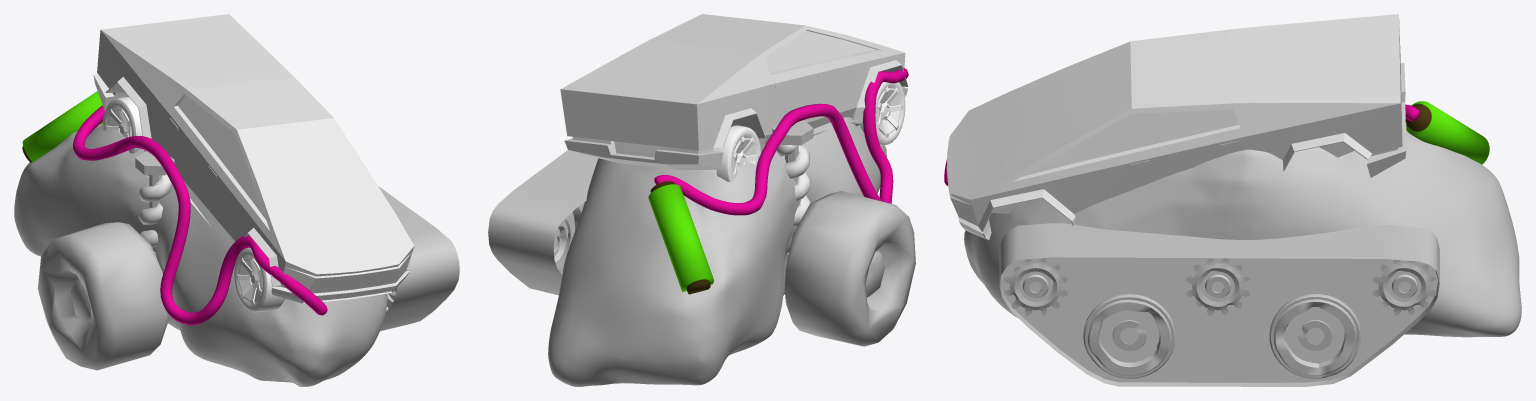
File: Boss_v2.fbx
3 renders of one model, left to right at view 1: azimuth 30°, elevation 25°; view 2: azimuth 150°, elevation 25°; view 3: azimuth 270°, elevation 25°, orthographic. The views are drawn at different scales.
Visible parts, largest first — view 1: cybertruck lowpo.004, Buldozerwheel.004, Buldozerwheel.001, Plane.004, Cylinder; view 2: Buldozerwheel.004, cybertruck lowpo.004, Buldozerwheel.001, Plane.004, Cylinder; view 3: cybertruck lowpo.004, Buldozerwheel.001, Buldozerwheel.004, Cylinder.
Boxes of the visible parts, x1,y1,x2,y2 form: cybertruck lowpo.004: [93, 14, 414, 312]; Buldozerwheel.004: [14, 120, 387, 386]; Buldozerwheel.001: [37, 151, 459, 370]; Plane.004: [73, 105, 327, 324]; Cylinder: [22, 91, 103, 162]; Buldozerwheel.004: [548, 117, 886, 386]; cybertruck lowpo.004: [560, 14, 908, 182]; Buldozerwheel.001: [488, 120, 915, 346]; Plane.004: [654, 67, 908, 215]; Cylinder: [648, 181, 713, 294]; cybertruck lowpo.004: [946, 14, 1406, 240]; Buldozerwheel.001: [999, 223, 1439, 386]; Buldozerwheel.004: [964, 130, 1521, 337]; Cylinder: [1405, 101, 1489, 164].
Bounding box in the file's own units: 653 × 557 × 1009.
